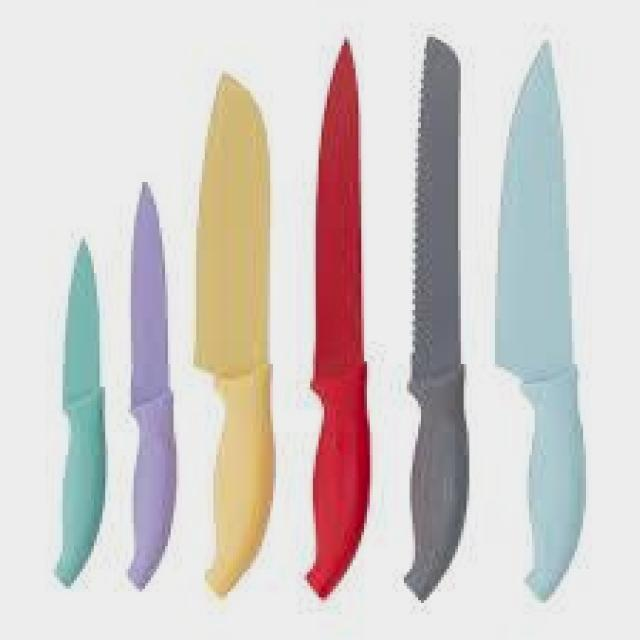Knife: (481, 23, 610, 618), (176, 51, 290, 600), (382, 19, 486, 618), (291, 20, 385, 630), (30, 214, 124, 592), (106, 178, 184, 590)
